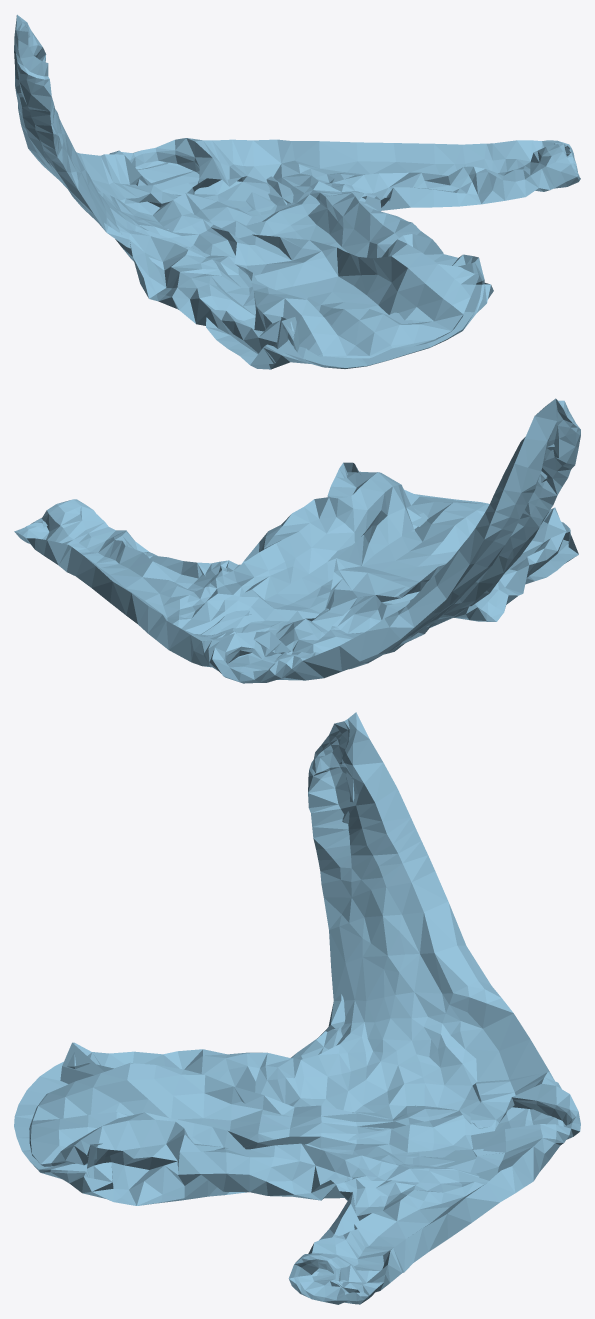
File: frame_07.glb
The picture shows the model from 3 angles, top to bottom: view 1: azimuth 30°, elevation 25°; view 2: azimuth 150°, elevation 25°; view 3: azimuth 270°, elevation 25°; orthographic projection. The views are drawn at different scales.
Parts seen in each view (by area): view 1: frame_07.obj; view 2: frame_07.obj; view 3: frame_07.obj.
Part boxes in pixels (x1,y1,x2,y2): frame_07.obj: (14, 14, 580, 369); frame_07.obj: (14, 398, 580, 683); frame_07.obj: (14, 712, 580, 1304).
Size of the model in its own units: 1.72 by 0.8737 by 1.38.
